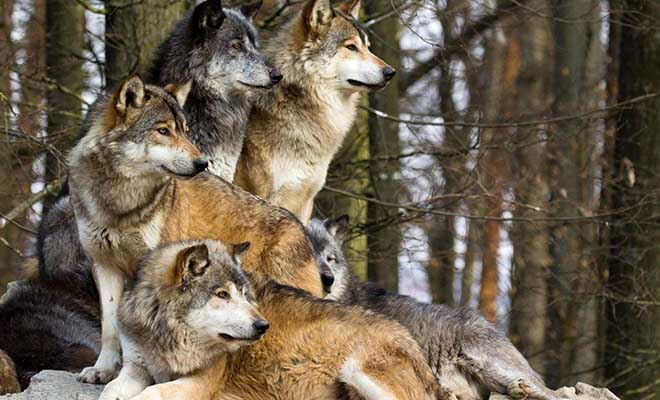wolf: (71, 95, 329, 351), (278, 205, 553, 394), (109, 250, 449, 400), (105, 8, 273, 287), (244, 14, 394, 213)
